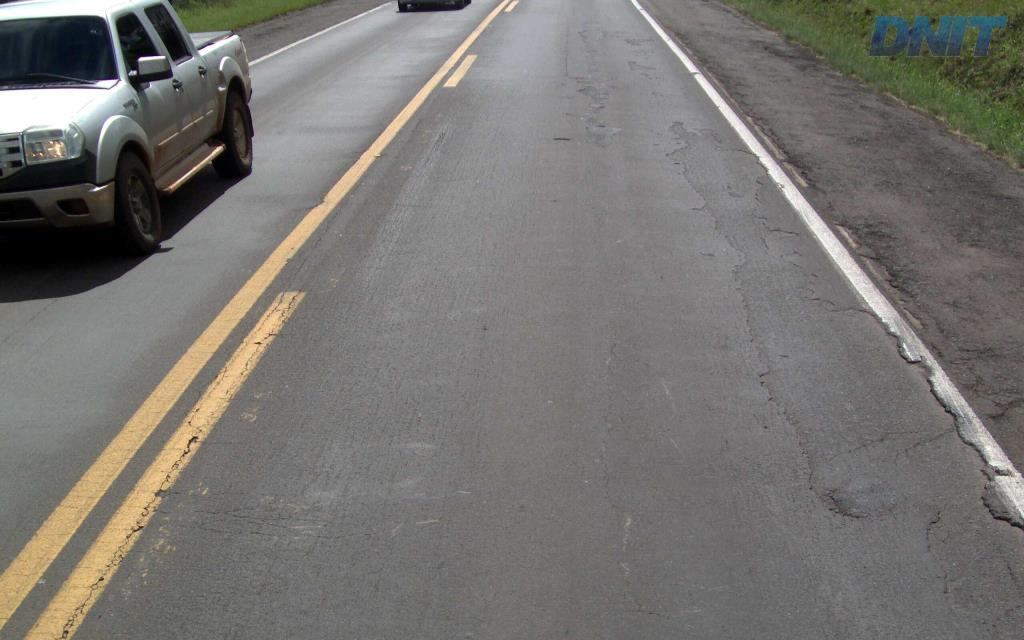pothole: (663, 112, 1022, 630), (546, 131, 571, 143)
